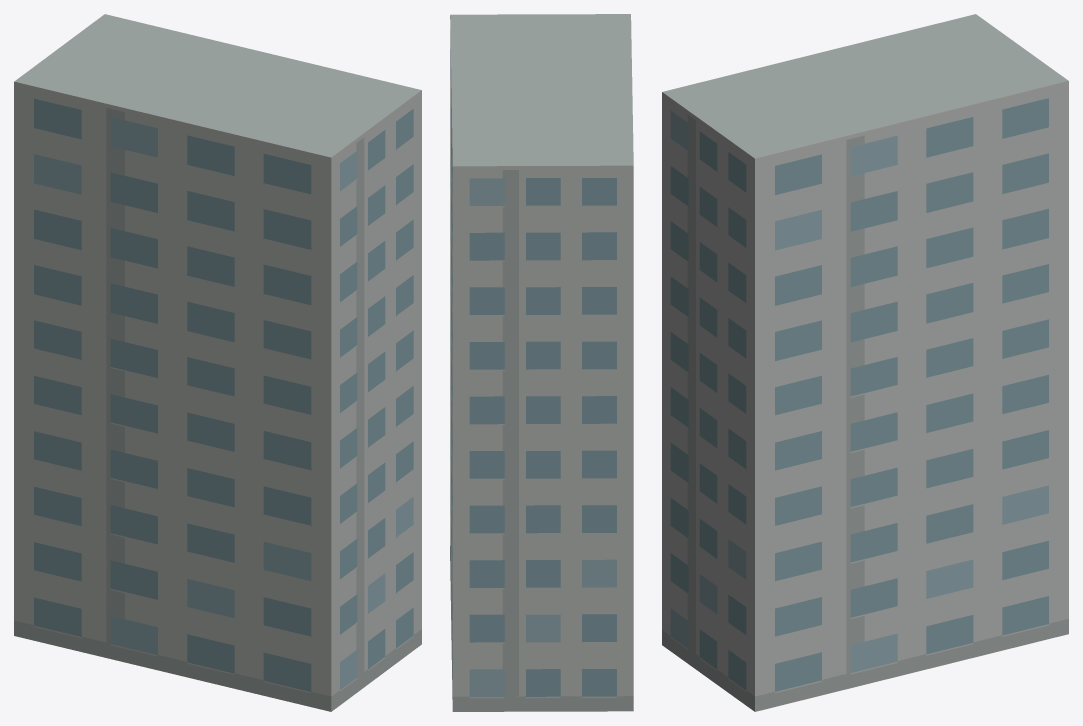
File: residential-c447b5e3-9dbb-447a-822c-88a53fc4ba92.glb
3 renders of one model, left to right at view 1: azimuth 30°, elevation 25°; view 2: azimuth 150°, elevation 25°; view 3: azimuth 270°, elevation 25°, orthographic.
Visible parts, largest first — view 1: residential-c447b5e3-9dbb-447a-822c-88a53fc4ba92.tmp; view 2: residential-c447b5e3-9dbb-447a-822c-88a53fc4ba92.tmp; view 3: residential-c447b5e3-9dbb-447a-822c-88a53fc4ba92.tmp.
Part boxes in pixels (x1,y1,x2,y2): residential-c447b5e3-9dbb-447a-822c-88a53fc4ba92.tmp: [14, 14, 421, 711]; residential-c447b5e3-9dbb-447a-822c-88a53fc4ba92.tmp: [450, 14, 633, 711]; residential-c447b5e3-9dbb-447a-822c-88a53fc4ba92.tmp: [662, 14, 1068, 711].
Bounding box in the file's own units: 19.08 × 34 × 22.66.
